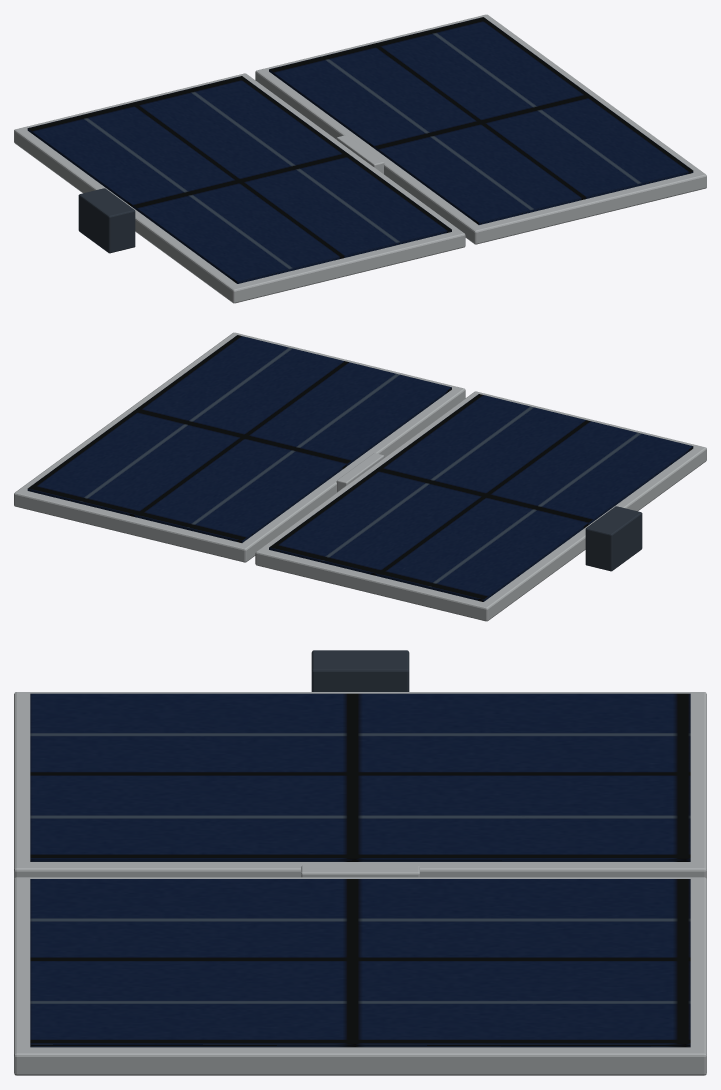
The model's file is small_solar_array.glb.
The picture shows the model from 3 angles, top to bottom: view 1: azimuth 30°, elevation 25°; view 2: azimuth 150°, elevation 25°; view 3: azimuth 270°, elevation 25°; orthographic projection. The views are drawn at different scales.
Visible parts, largest first — view 1: Cell_Surface, Cell_Surface.001, Panel_Frame, Panel_Frame.001, Attach_Mount, Panel_Hinge; view 2: Cell_Surface, Cell_Surface.001, Panel_Frame, Panel_Frame.001, Attach_Mount, Panel_Hinge; view 3: Cell_Surface, Cell_Surface.001, Panel_Frame.001, Panel_Frame, Attach_Mount, Panel_Hinge.
Part boxes in pixels (box(x1,y1,x2,y2)): Cell_Surface: box(27, 76, 451, 283); Cell_Surface.001: box(269, 17, 693, 224); Panel_Frame: box(14, 73, 465, 303); Panel_Frame.001: box(255, 14, 706, 244); Attach_Mount: box(78, 188, 135, 253); Panel_Hinge: box(336, 135, 384, 173); Cell_Surface: box(269, 394, 693, 601); Cell_Surface.001: box(27, 335, 451, 542); Panel_Frame: box(255, 391, 706, 621); Panel_Frame.001: box(14, 332, 465, 562); Attach_Mount: box(585, 506, 642, 571); Panel_Hinge: box(336, 453, 384, 491); Cell_Surface: box(30, 693, 690, 861); Cell_Surface.001: box(30, 879, 690, 1047); Panel_Frame.001: box(14, 877, 706, 1075); Panel_Frame: box(14, 692, 706, 878); Attach_Mount: box(311, 650, 409, 691); Panel_Hinge: box(301, 865, 419, 877).
Bounding box in the file's own units: 1.69 × 0.12 × 1.28.
Materials: 3 (1 with a texture image).
